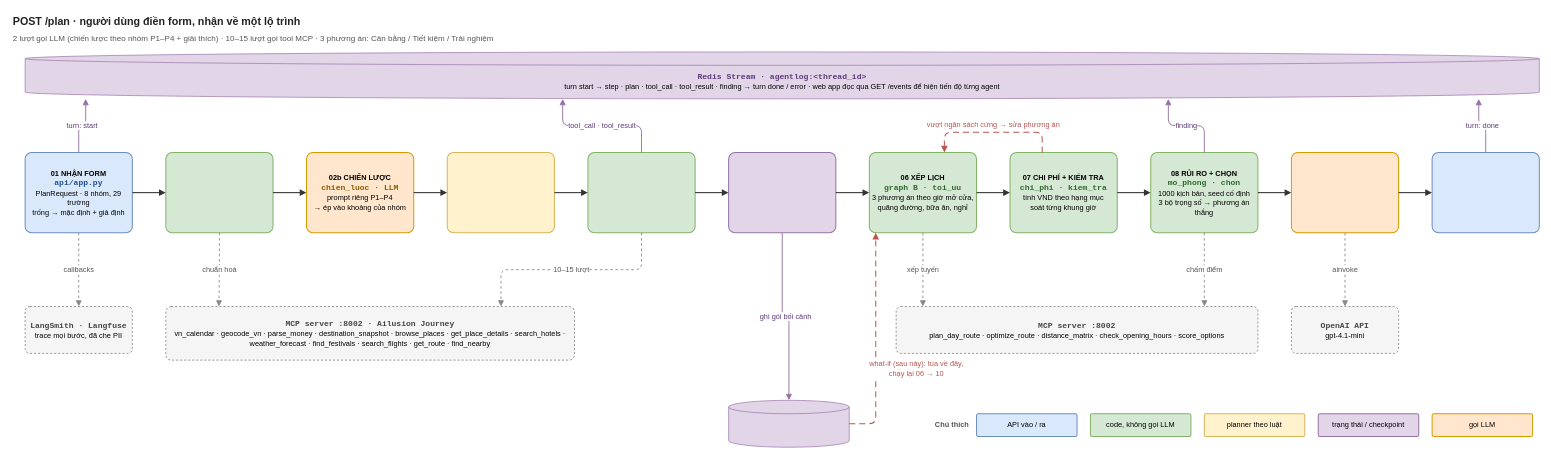
The diagram is 1551 pixels wide and 459 high, and some of its shapes have lost their labels. The box of each missing label's shape, as (x1, y1, x2, y2) in pixels:
02 CHUẨN HOÁ normalize.py ràng buộc cứng / mềm ngân sách · ngày · toạ độ: (165, 152, 273, 233)
03 PLANNER planner.py luật theo từng nhóm form → ≤ 15 bước: tool + tham số: (446, 152, 555, 233)
04 THU THẬP goi_tool × N Send song song qua MCP → ứng viên có cấu trúc: (587, 152, 695, 233)
05 ĐÓNG BĂNG dong_bang gói bối cảnh bất biến mốc để what-if tua về: (728, 152, 836, 233)
09 GIẢI THÍCH giai_thich · LLM lượt LLM thứ hai đọc nhật ký → tiếng Việt: (1291, 152, 1399, 233)
10 TRẢ LỘ TRÌNH PlanResponse 3 options · days · cost decision · explanation: (1431, 152, 1540, 233)
Redis · checkpoint* gói bối cảnh theo thread_id: (728, 400, 849, 447)
